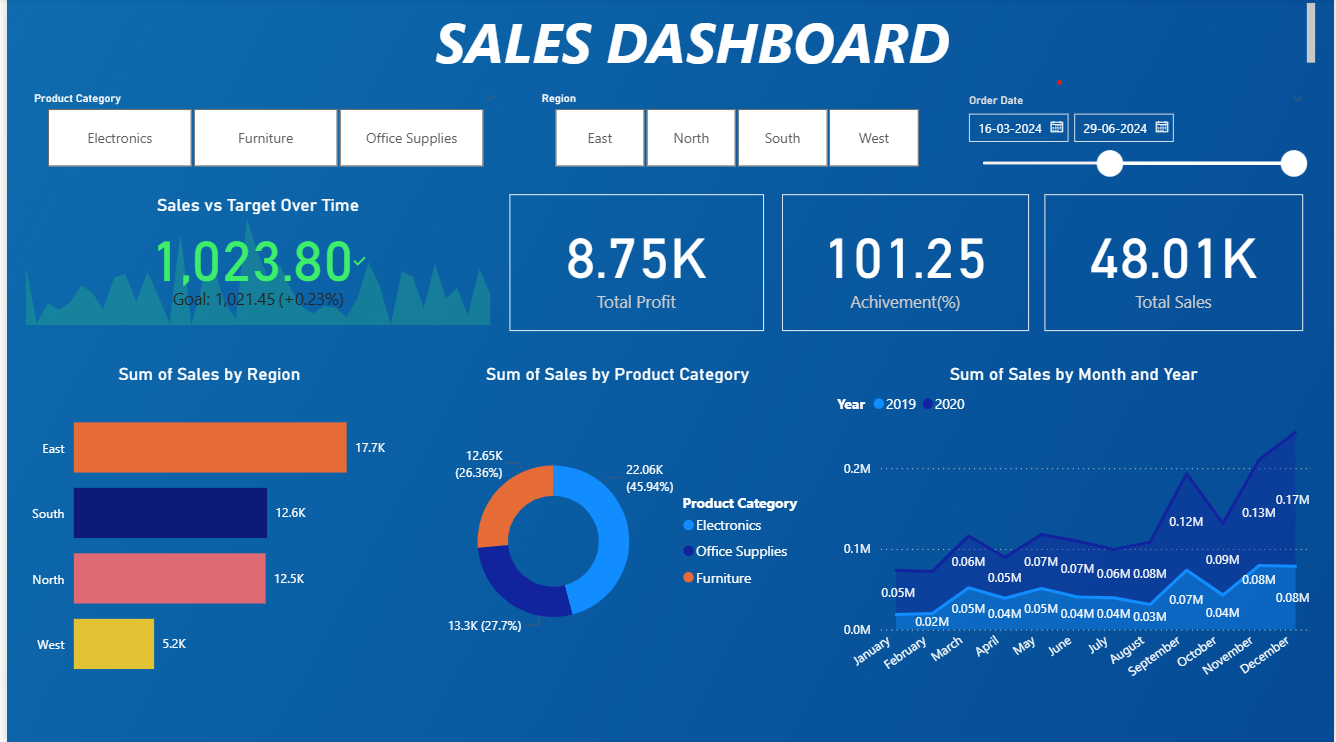

What the dashboard file says about the page in this screenshot:
{"tool":"powerbi","page":{"name":"salesdashboard1","canvas":[1280,720],"ordinal":0},"visuals":[{"type":"kpi","title":"Sales vs Target Over Time","fields":{"Indicator":["Sheet1.Total Sales"],"Goal":["Sheet1.Total target"],"TrendLine":["Sheet1.Order Date"]},"box":[13.7,189.4,458.3,131.7],"z":0},{"type":"card","fields":{"Values":["Sheet1.Achivement(%)"]},"box":[747.9,189.4,238.8,131.7],"z":1000},{"type":"card","fields":{"Values":["Sheet1.Total Sales"]},"box":[1001.7,189.4,249.7,131.7],"z":2000},{"type":"card","fields":{"Values":["Sheet1.Total Profit"]},"box":[484.4,189.4,245.6,131.7],"z":3000},{"type":"clusteredBarChart","fields":{"Category":["Sheet1.Region"],"Y":["Sum(Sheet1.Sales)"]},"box":[15.1,352.7,359.5,328],"z":4000},{"type":"donutChart","fields":{"Category":["Sheet1.Product Category"],"Y":["Sum(Sheet1.Sales)"]},"box":[397.9,352.7,382.8,325.2],"z":5000},{"type":"slicer","fields":{"Values":["Sheet1.Product Category"]},"box":[13.7,85.1,470.7,83.7],"z":6000},{"type":"slicer","fields":{"Values":["Sheet1.Region"]},"box":[503.6,85.1,400.7,83.7],"z":7000},{"type":"slicer","fields":{"Values":["Sheet1.Order Date"]},"box":[915.3,86.4,347.2,91.9],"z":8000},{"type":"textbox","box":[24.7,0,1243.2,74.1],"z":9000},{"type":"stackedAreaChart","fields":{"Category":["SuperStore_Sales_Dataset.Order Date.Variation.Date Hierarchy.Month"],"Y":["Sum(SuperStore_Sales_Dataset.Sales)"],"Series":["SuperStore_Sales_Dataset.Order Date.Variation.Date Hierarchy.Year"]},"box":[795.9,352.7,466.6,325.2],"z":10000}]}

Visuals, with their boxes in screenshot pixels (x1, y1, x2, y2), scaled from the page's 1280x720 canvas onto the 1336x742 screenshot:
"Sales vs Target Over Time" kpi: left=14, top=195, right=493, bottom=331
card - Sheet1.Achivement(%): left=781, top=195, right=1030, bottom=331
card - Sheet1.Total Sales: left=1046, top=195, right=1306, bottom=331
card - Sheet1.Total Profit: left=506, top=195, right=762, bottom=331
clusteredBarChart - Sheet1.Region x Sum(Sheet1.Sales): left=16, top=363, right=391, bottom=701
donutChart - Sheet1.Product Category x Sum(Sheet1.Sales): left=415, top=363, right=815, bottom=699
slicer - Sheet1.Product Category: left=14, top=88, right=506, bottom=174
slicer - Sheet1.Region: left=526, top=88, right=944, bottom=174
slicer - Sheet1.Order Date: left=955, top=89, right=1318, bottom=184
textbox: left=26, top=0, right=1323, bottom=76
stackedAreaChart - SuperStore_Sales_Dataset.Order Date.Variation.Date Hierarchy.Month x Sum(SuperStore_Sales_Dataset.Sales): left=831, top=363, right=1318, bottom=699
